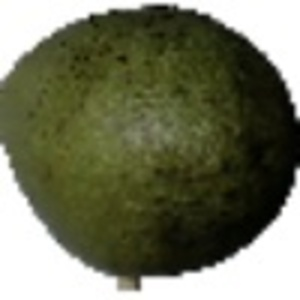abacate: (2, 3, 297, 280)
